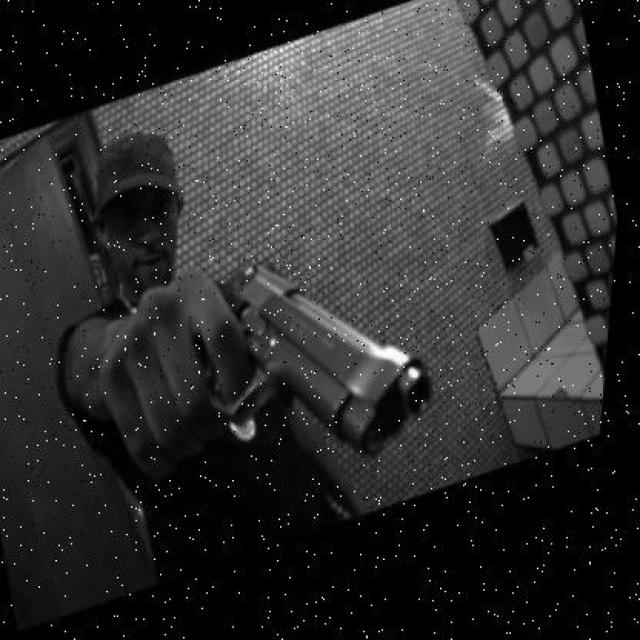weapon: (150, 258, 432, 462)
